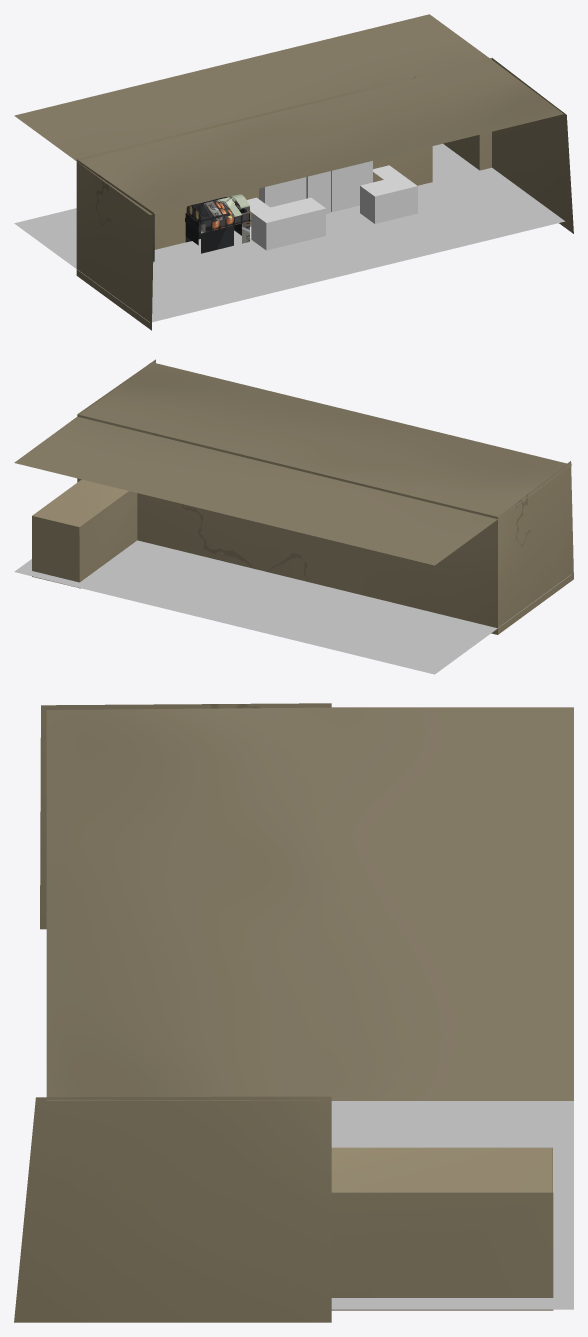
Rendered from insideGas (2).fbx.
3 renders of one model, top to bottom at view 1: azimuth 30°, elevation 25°; view 2: azimuth 150°, elevation 25°; view 3: azimuth 270°, elevation 25°, orthographic. The views are drawn at different scales.
Visible parts, largest first — view 1: ceiling, floor, back wall, new short shelf, new short shelf.001, big shelves.001, Cube.014, Cube.013, big shelves, big shelves.002; view 2: ceiling, back wall, floor; view 3: ceiling, back wall, floor.
Boxes of the visible parts, x1,y1,x2,y2 form: ceiling: [14, 14, 563, 214]; floor: [14, 143, 565, 322]; back wall: [76, 58, 573, 330]; new short shelf: [247, 197, 325, 250]; new short shelf.001: [360, 165, 417, 223]; big shelves.001: [331, 161, 372, 212]; Cube.014: [185, 197, 251, 233]; Cube.013: [185, 201, 249, 253]; big shelves: [259, 177, 306, 207]; big shelves.002: [306, 171, 330, 213]; ceiling: [14, 362, 571, 565]; back wall: [32, 359, 573, 634]; floor: [14, 540, 571, 674]; ceiling: [46, 707, 573, 1100]; back wall: [14, 703, 553, 1322]; floor: [331, 1101, 573, 1309].
Bounding box in the file's own units: 2022 × 543 × 1217.
